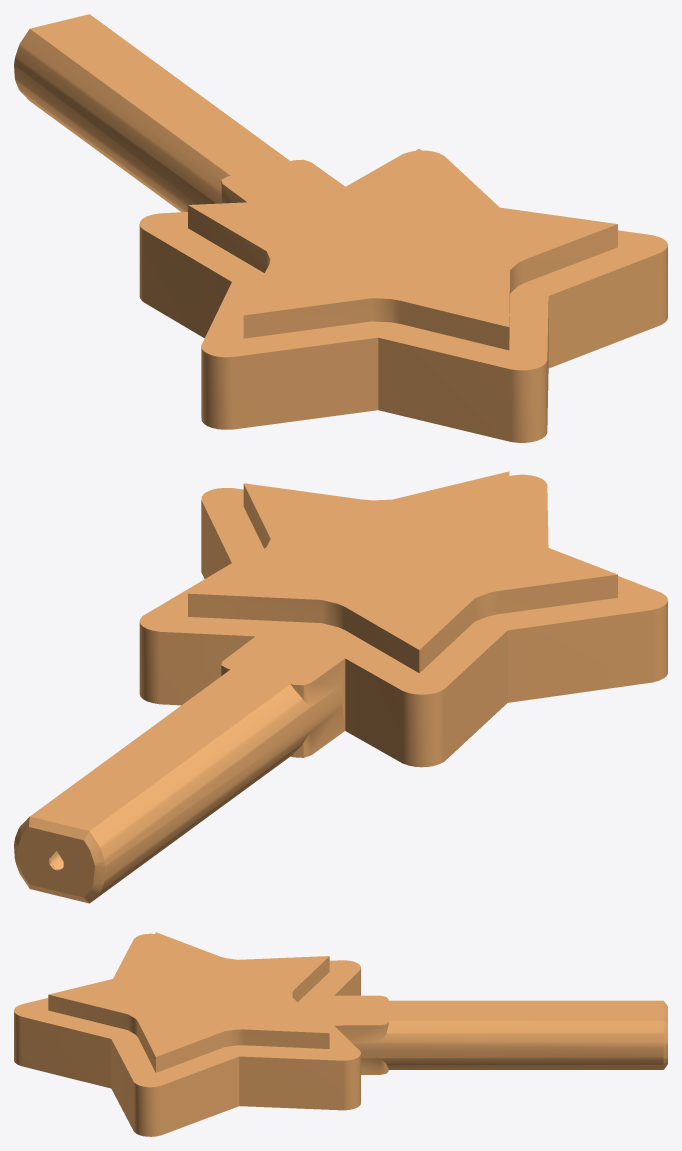
File: custom_star_wand.glb
3 renders of one model, top to bottom at view 1: azimuth 30°, elevation 25°; view 2: azimuth 150°, elevation 25°; view 3: azimuth 270°, elevation 25°, orthographic. The views are drawn at different scales.
Parts seen in each view (by area): view 1: custom_star_wand; view 2: custom_star_wand; view 3: custom_star_wand.
Part boxes in pixels (x1,y1,x2,y2): custom_star_wand: (14, 14, 667, 442); custom_star_wand: (14, 471, 667, 903); custom_star_wand: (14, 932, 667, 1136).
Size of the model in its own units: 0.0332 by 0.0066 by 0.0597.
